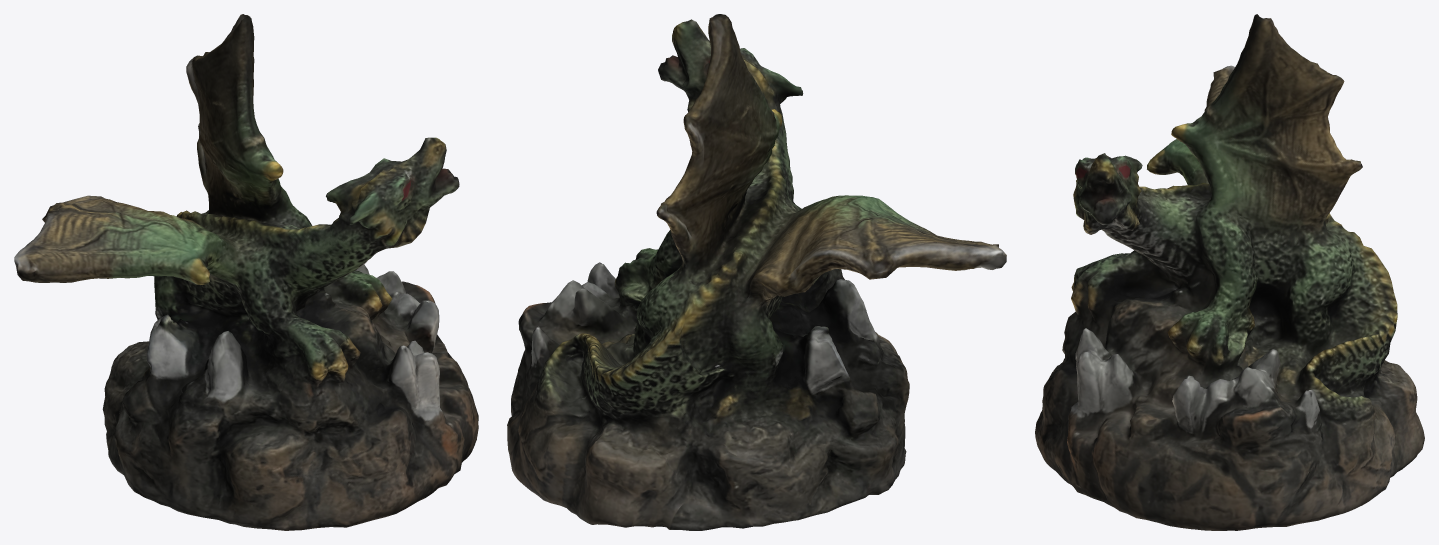
The model's file is medieval_mini_dragon_figurine.glb.
3 renders of one model, left to right at view 1: azimuth 30°, elevation 25°; view 2: azimuth 150°, elevation 25°; view 3: azimuth 270°, elevation 25°, orthographic. The views are drawn at different scales.
Parts seen in each view (by area): view 1: DragonLP; view 2: DragonLP; view 3: DragonLP.
Boxes of the visible parts, x1,y1,x2,y2 form: DragonLP: (14,14,478,530); DragonLP: (507,14,1006,530); DragonLP: (1035,14,1424,530).
Size of the model in its own units: 17 by 15.84 by 13.08.
1 material, 1 textured.
